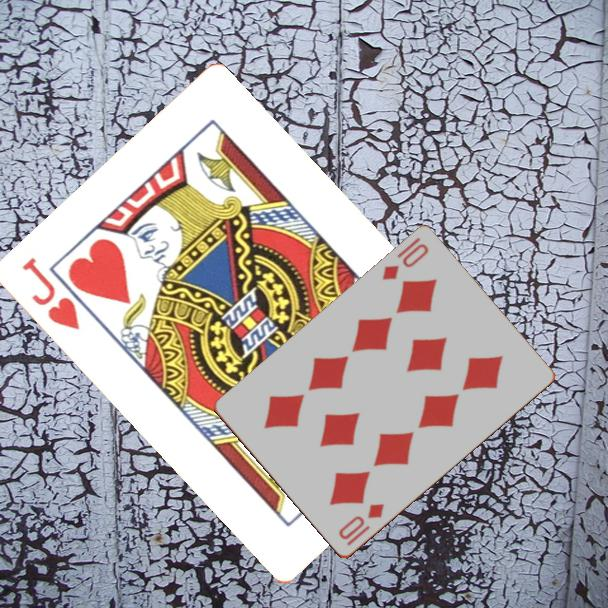d10: (379, 234, 431, 284), (335, 500, 387, 549)
h11: (17, 253, 83, 334)
